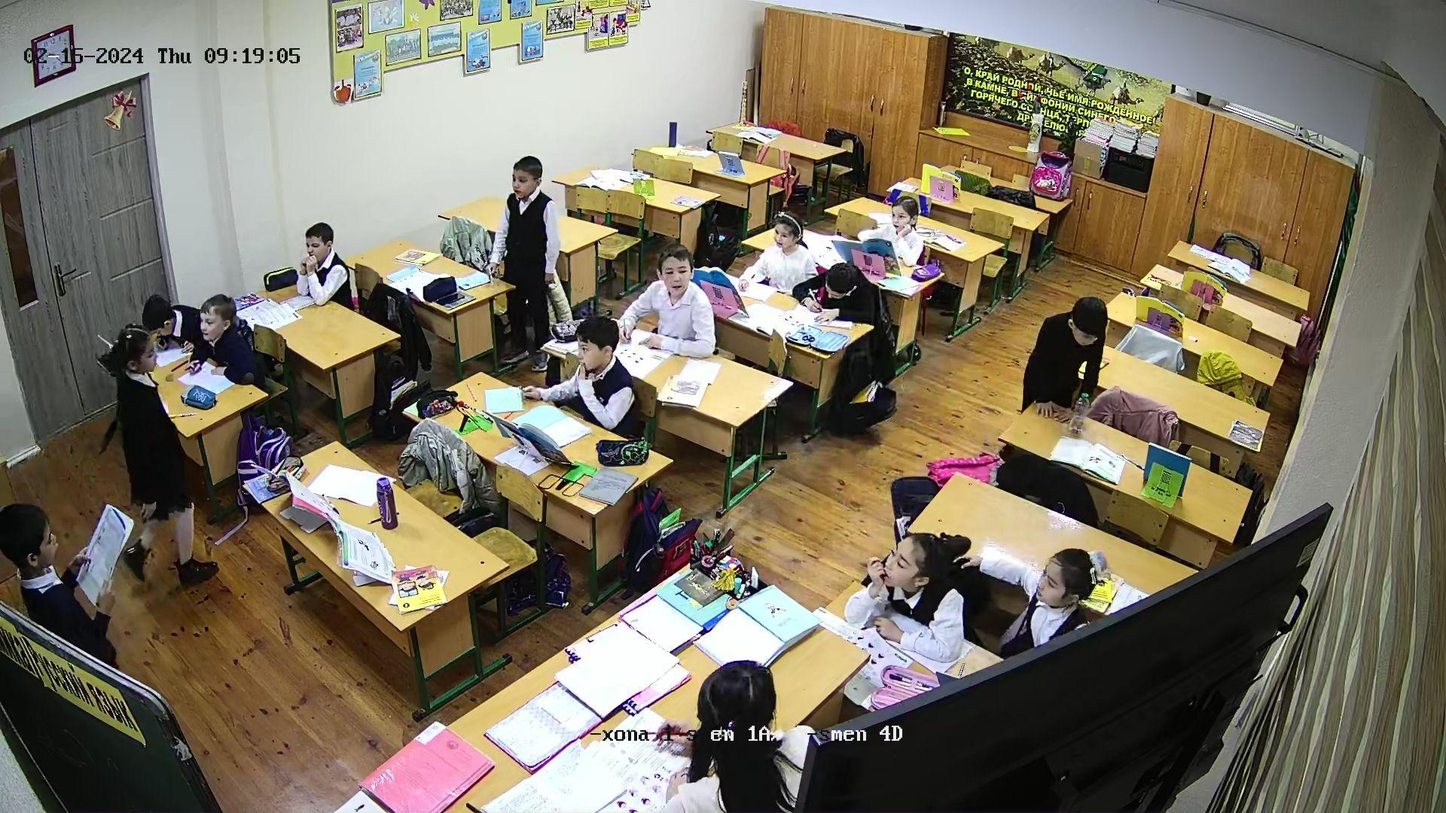Look Around: (650, 241, 698, 305)
Normal: (865, 199, 926, 266), (816, 265, 870, 322)
Stand Up: (101, 327, 203, 586), (2, 492, 133, 674), (490, 148, 560, 378), (1034, 283, 1105, 430)
